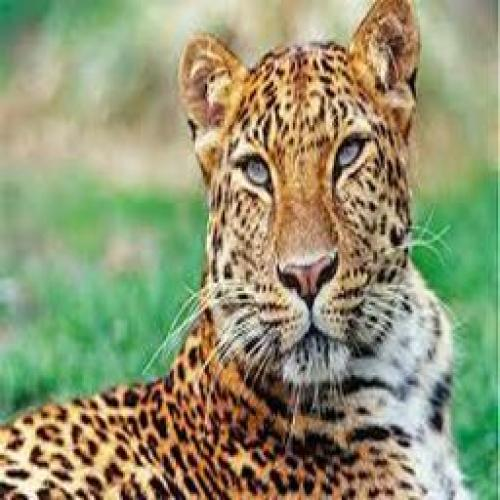amur_leopard-endangered: (34, 1, 460, 500)
